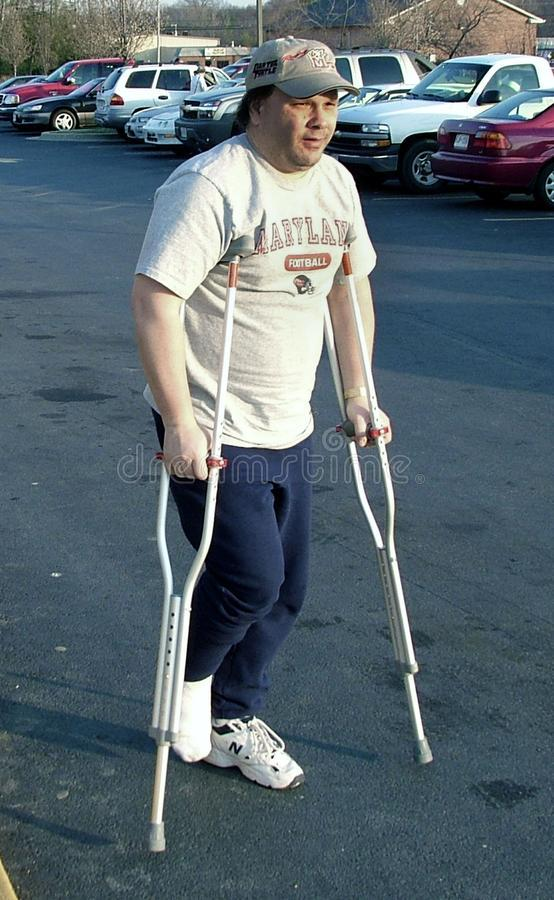crutches: (132, 34, 435, 851)
